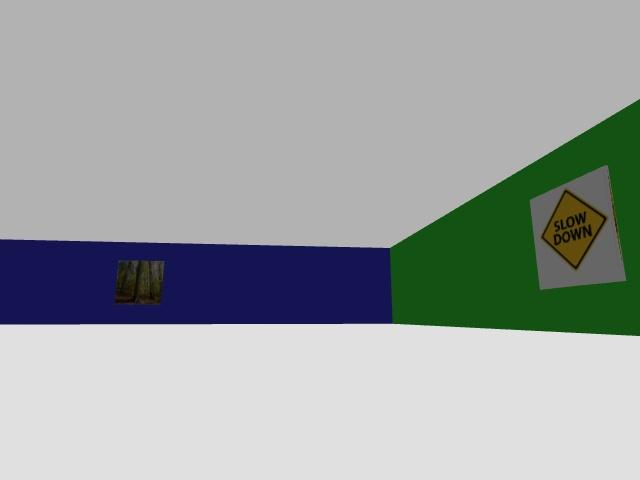slowsign: (530, 165, 625, 289)
